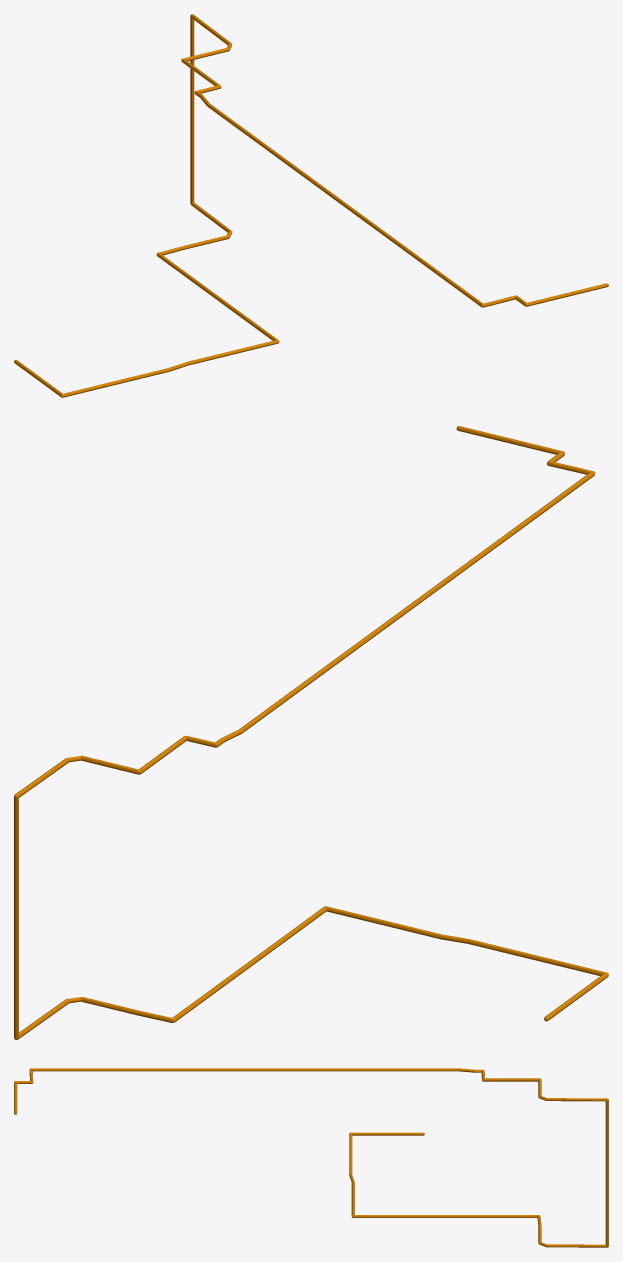
3 views of the same model, one above another, from view 1: azimuth 30°, elevation 25°; view 2: azimuth 150°, elevation 25°; view 3: azimuth 270°, elevation 25° (orthographic). The views are drawn at different scales.
Bounding box in the file's own units: 1859 × 1020 × 3687.
